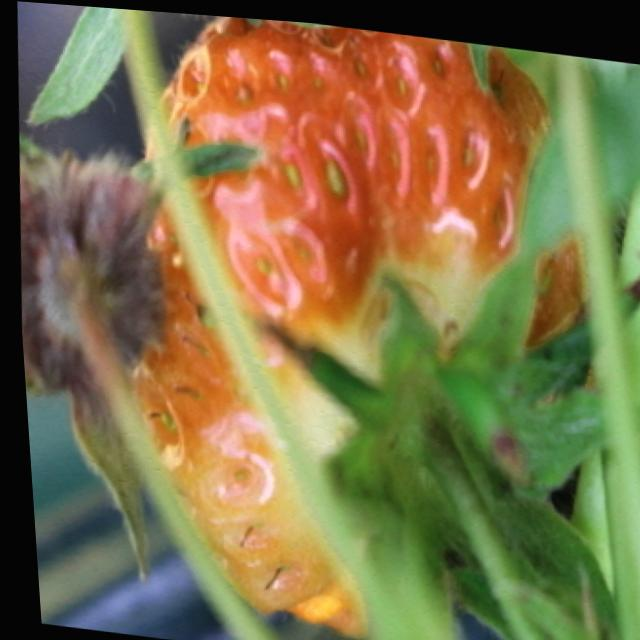Gray Mold: (16, 145, 163, 577)
